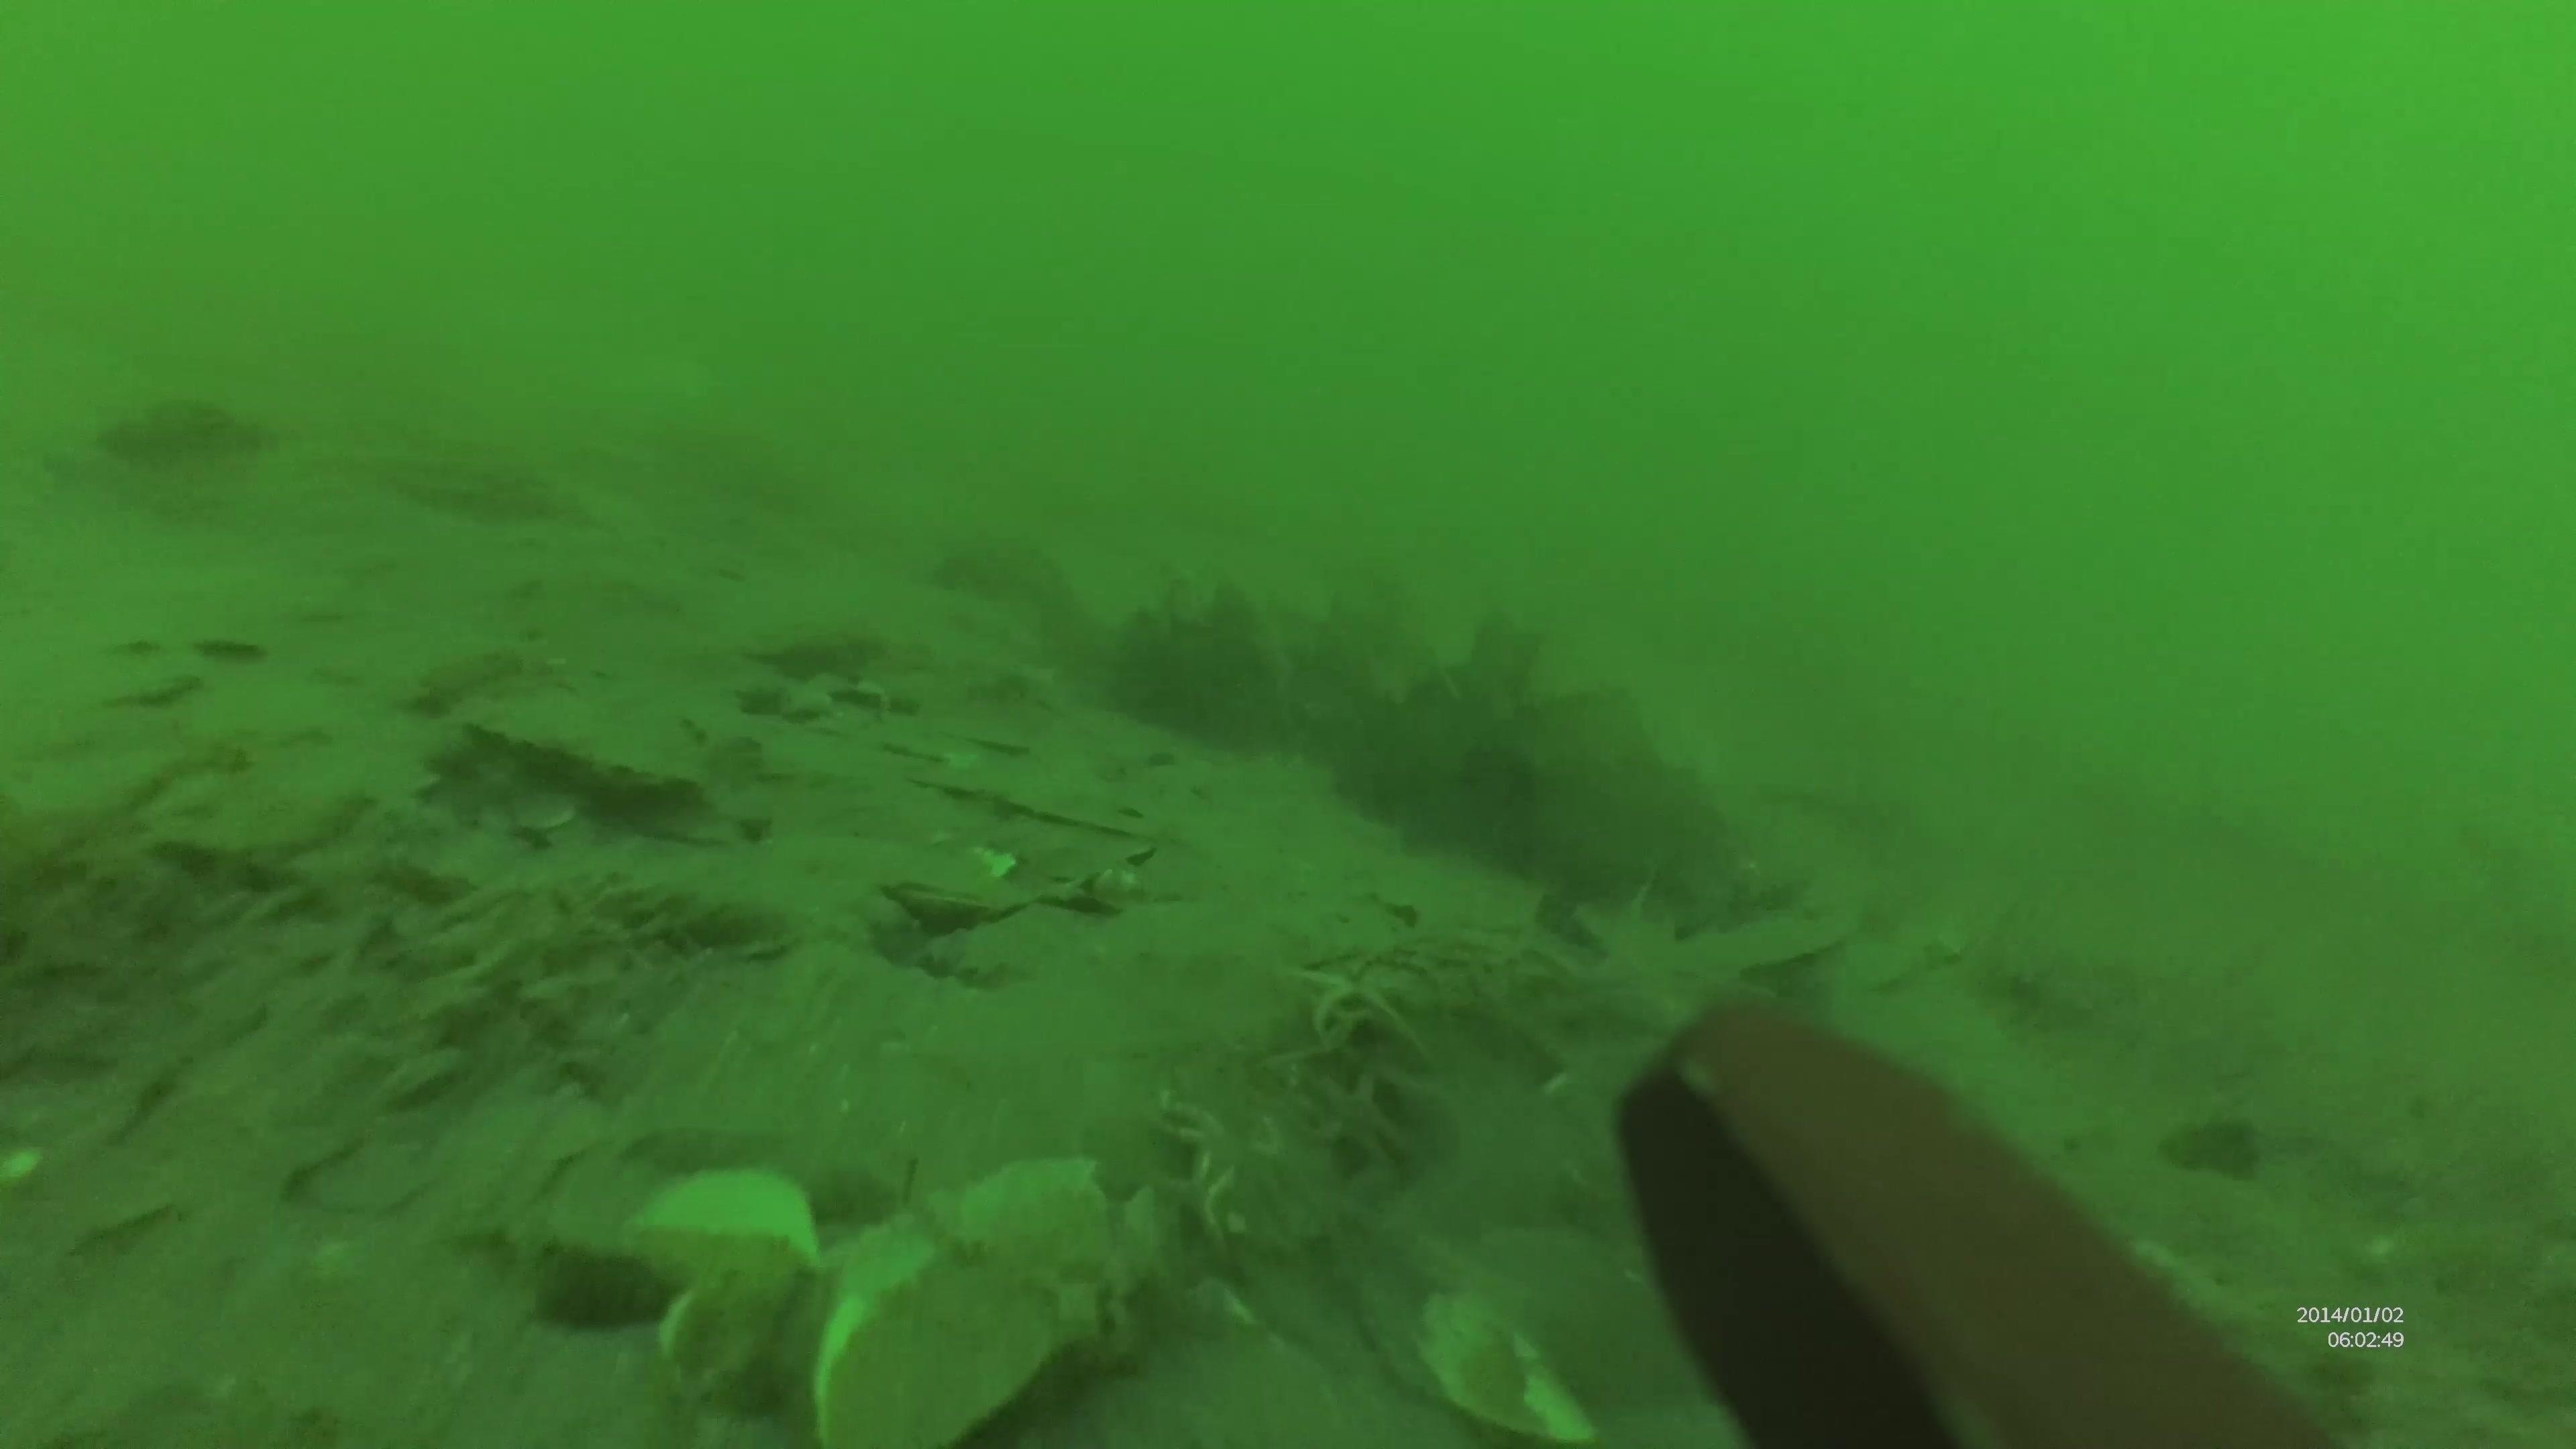scallop: (442, 686, 722, 832), (1631, 904, 1849, 975)
